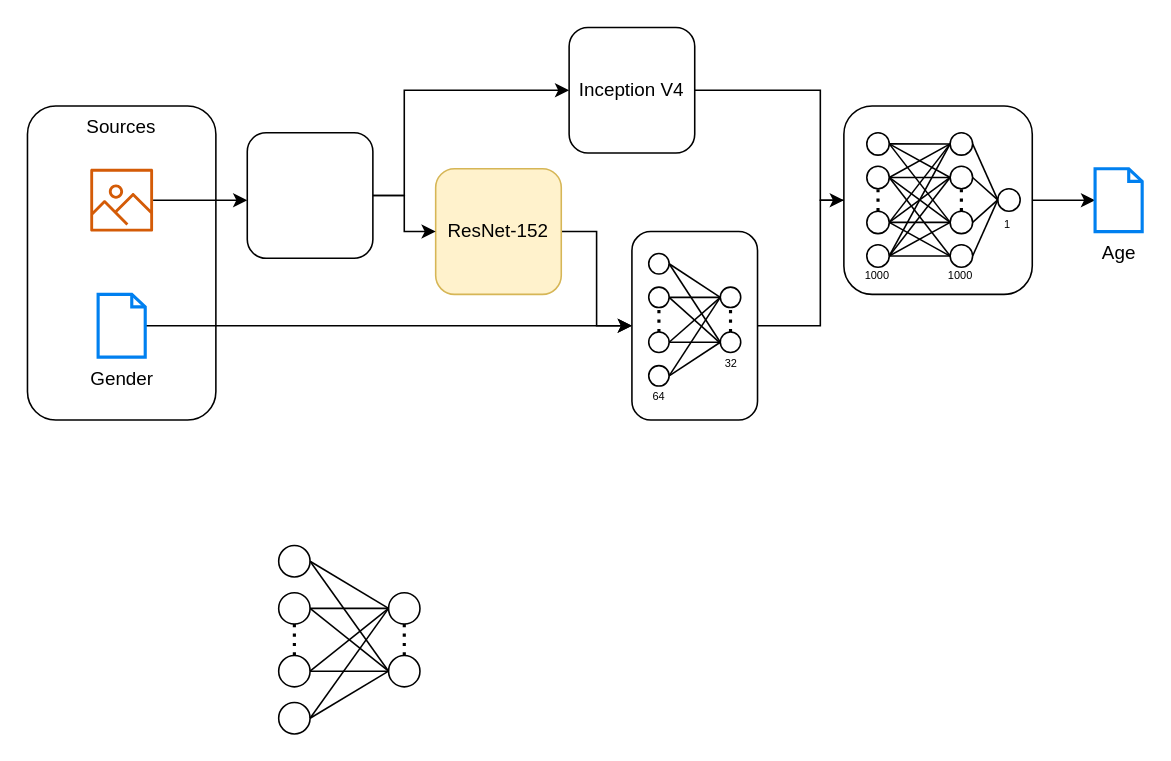
Some shapes in this 1171 by 761 pixel diagram are drawn without their labels. The shapes that lost their labels are listed below. From the top down, each one's box as (x1, y1, x2, y2) in pixels, then its label:
(89, 168, 152, 231): X-Ray Images
(246, 131, 373, 258): Image Preprocessor
